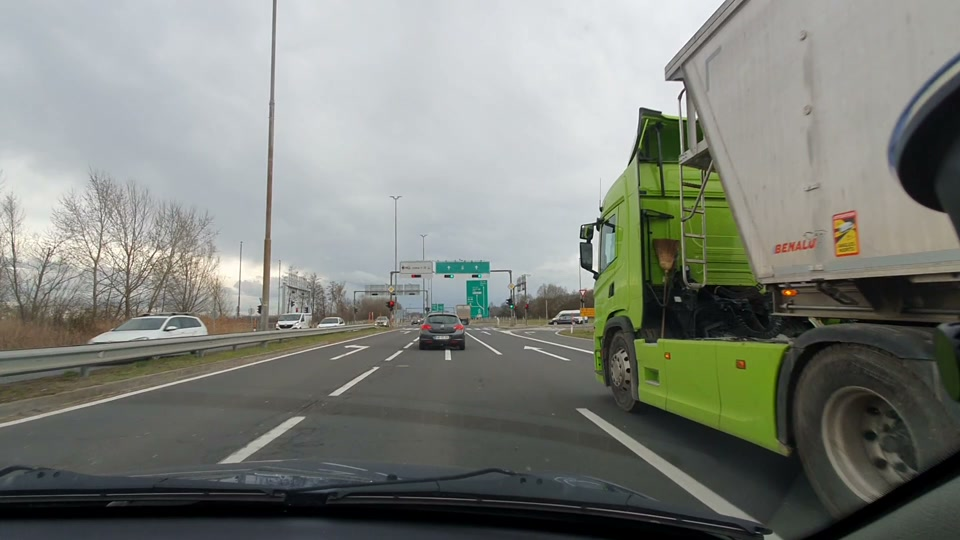vehicle_ign: (565, 8, 954, 512), (415, 308, 470, 356)
vehicle_s: (272, 306, 314, 338), (315, 313, 348, 335)
